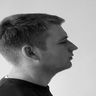ear: (18, 40, 44, 66)
